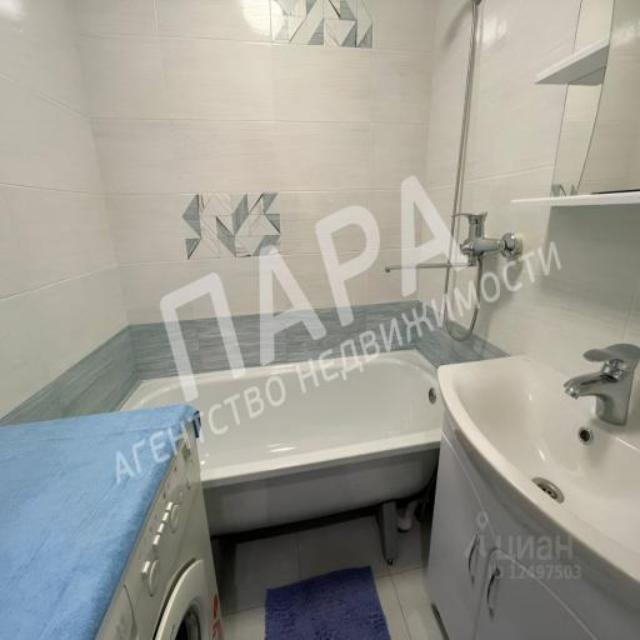Washing-Machine: (0, 409, 224, 639)
